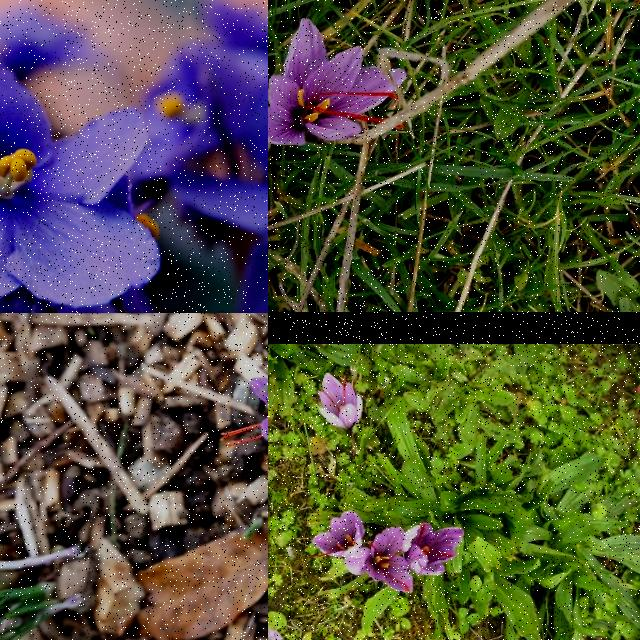flower: (268, 17, 408, 146), (220, 365, 268, 496), (346, 528, 414, 594), (402, 524, 466, 576), (316, 372, 364, 434), (312, 510, 366, 558)
